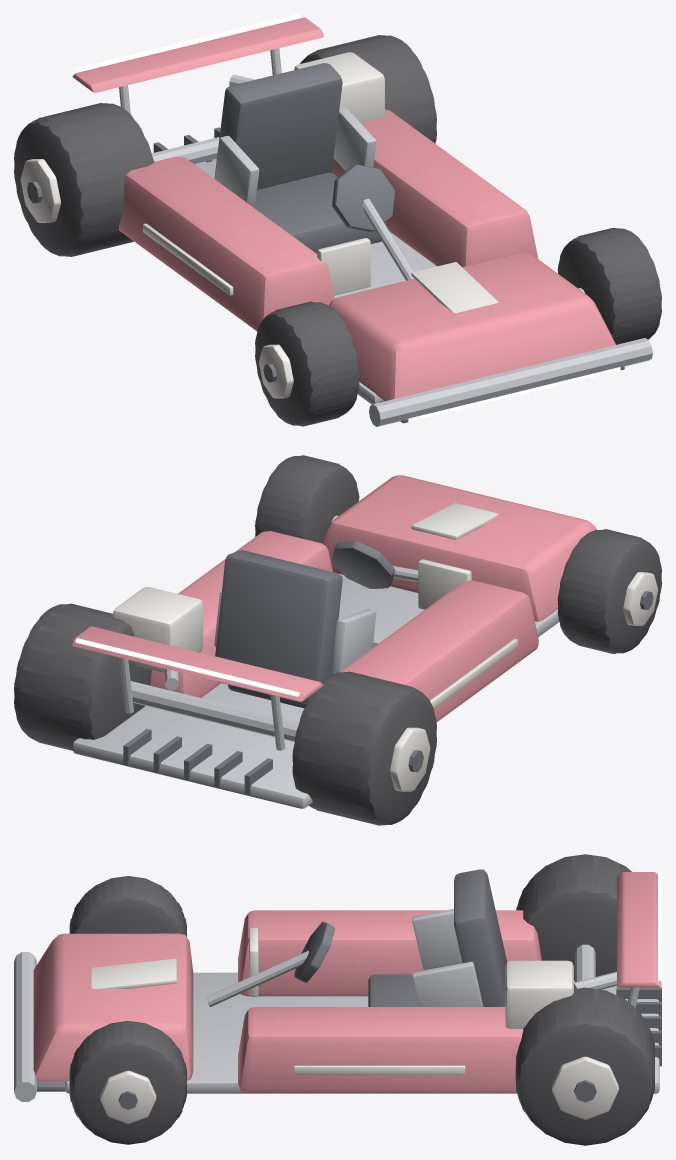
File: midnight_kart.fbx
3 views of the same model, one above another, from view 1: azimuth 30°, elevation 25°; view 2: azimuth 150°, elevation 25°; view 3: azimuth 270°, elevation 25° (orthographic).
Visible parts, largest first — view 1: Body, Trim, Metal, Wheel_RR, Accent, Wheel_FR, Wheel_FL, Wheel_RL, Light; view 2: Body, Metal, Trim, Wheel_RR, Wheel_RL, Accent, Wheel_FR, Wheel_FL, Light; view 3: Body, Metal, Wheel_RL, Accent, Trim, Wheel_FL, Wheel_RR, Wheel_FR, Light.
Boxes of the visible parts, left/top/right/bottom form: Body: left=72, top=17, right=615, bottom=401; Trim: left=27, top=63, right=624, bottom=423; Metal: left=119, top=48, right=652, bottom=426; Wheel_RR: left=14, top=103, right=154, bottom=256; Accent: left=20, top=52, right=498, bottom=398; Wheel_FR: left=255, top=301, right=359, bottom=426; Wheel_FL: left=557, top=227, right=661, bottom=344; Wheel_RL: left=300, top=35, right=436, bottom=143; Light: left=75, top=14, right=620, bottom=421; Body: left=72, top=475, right=596, bottom=721; Metal: left=73, top=515, right=559, bottom=808; Trim: left=123, top=541, right=653, bottom=795; Wheel_RR: left=292, top=671, right=436, bottom=825; Wheel_RL: left=14, top=603, right=151, bottom=750; Accent: left=112, top=503, right=657, bottom=791; Wheel_FR: left=557, top=529, right=661, bottom=653; Wheel_FL: left=255, top=455, right=359, bottom=543; Light: left=75, top=638, right=299, bottom=696; Body: left=33, top=872, right=661, bottom=1092; Metal: left=14, top=909, right=659, bottom=1101; Wheel_RL: left=515, top=987, right=654, bottom=1145; Accent: left=91, top=928, right=618, bottom=1123; Trim: left=37, top=869, right=661, bottom=1109; Wheel_FL: left=69, top=1021, right=186, bottom=1144; Wheel_RR: left=516, top=854, right=631, bottom=980; Wheel_FR: left=69, top=876, right=186, bottom=936; Light: left=658, top=871, right=661, bottom=980.
Bounding box in the file's own units: 3.82 × 1.65 × 5.67.
